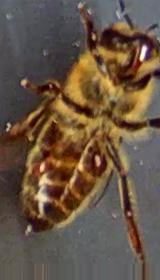varroa_mite: (80, 136, 118, 184), (30, 150, 66, 193)
